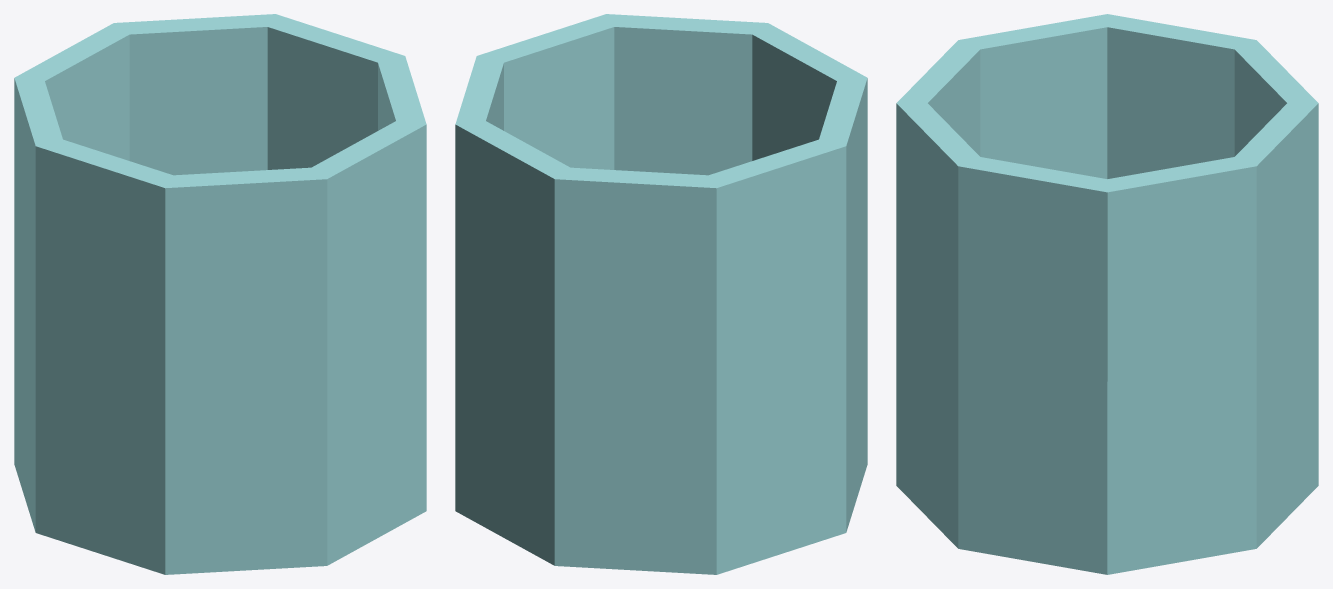
The model's file is pandemonium_whiskey_glass.fbx.
3 renders of one model, left to right at view 1: azimuth 30°, elevation 25°; view 2: azimuth 150°, elevation 25°; view 3: azimuth 270°, elevation 25°, orthographic.
Visible parts, largest first — view 1: Cylinder.018; view 2: Cylinder.018; view 3: Cylinder.018.
Boxes of the visible parts, x1,y1,x2,y2 form: Cylinder.018: (14,14,426,574); Cylinder.018: (455,14,867,574); Cylinder.018: (896,14,1318,574).
Size of the model in its own units: 30.89 by 30.89 by 30.89.
